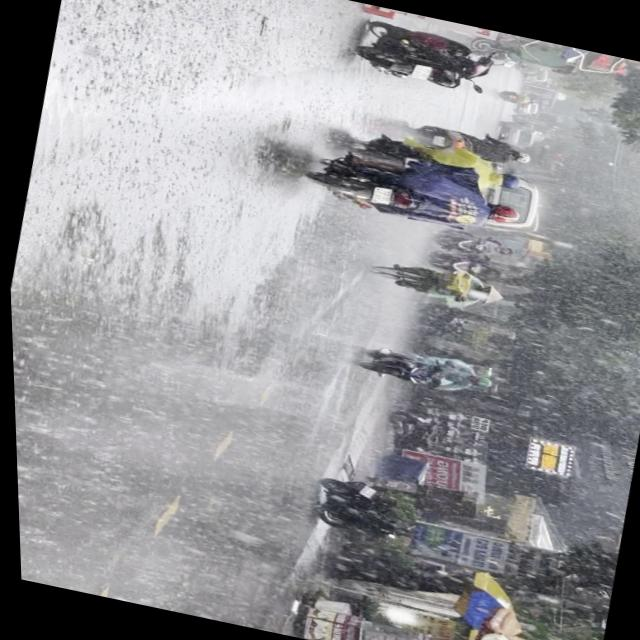helmet: (486, 201, 521, 225), (493, 170, 523, 191)
licenseplate: (297, 142, 529, 245), (342, 124, 528, 199)
nohelmet: (370, 186, 391, 204)
